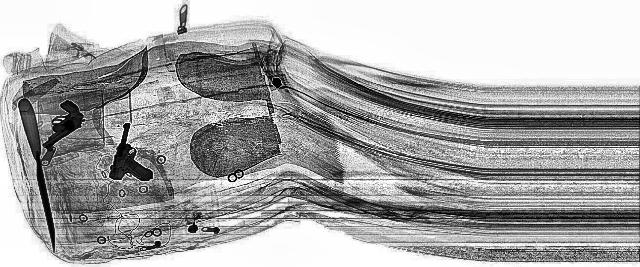Gun: (6, 100, 110, 148), (105, 121, 167, 181)
Knife: (13, 99, 65, 252)
